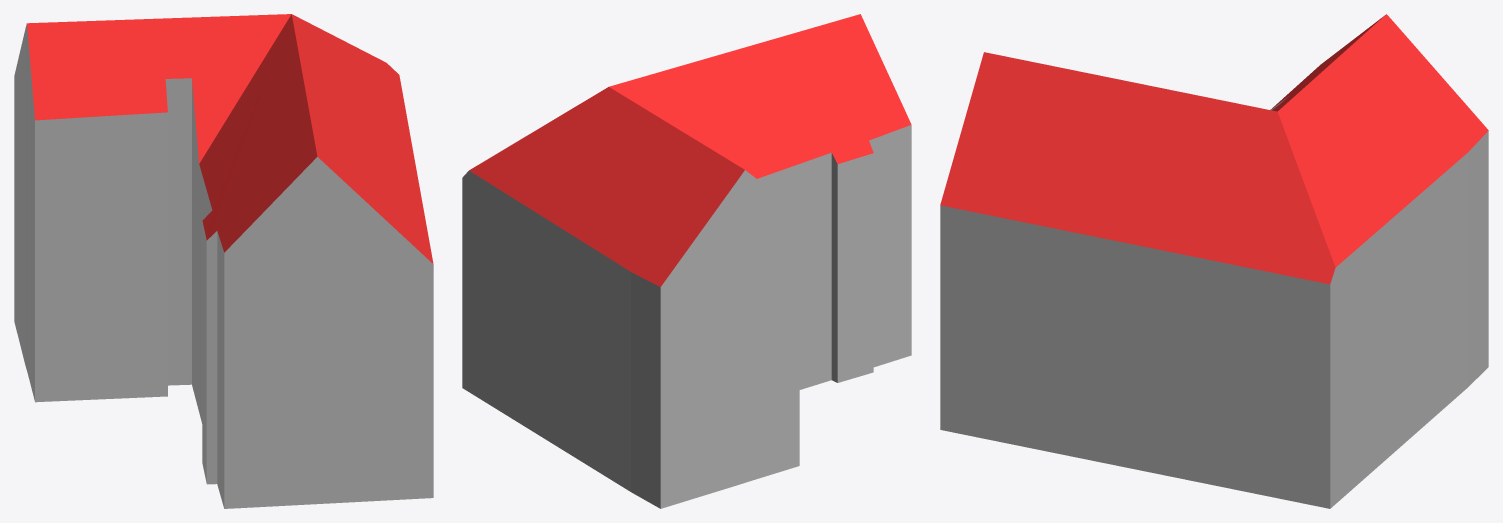
Rendered from DEBY_LOD2_4907196.dae.
3 views of the same model, side by side, from view 1: azimuth 30°, elevation 25°; view 2: azimuth 150°, elevation 25°; view 3: azimuth 270°, elevation 25° (orthographic). The views are drawn at different scales.
Size of the model in its own units: 24.75 by 33.11 by 22.24.
